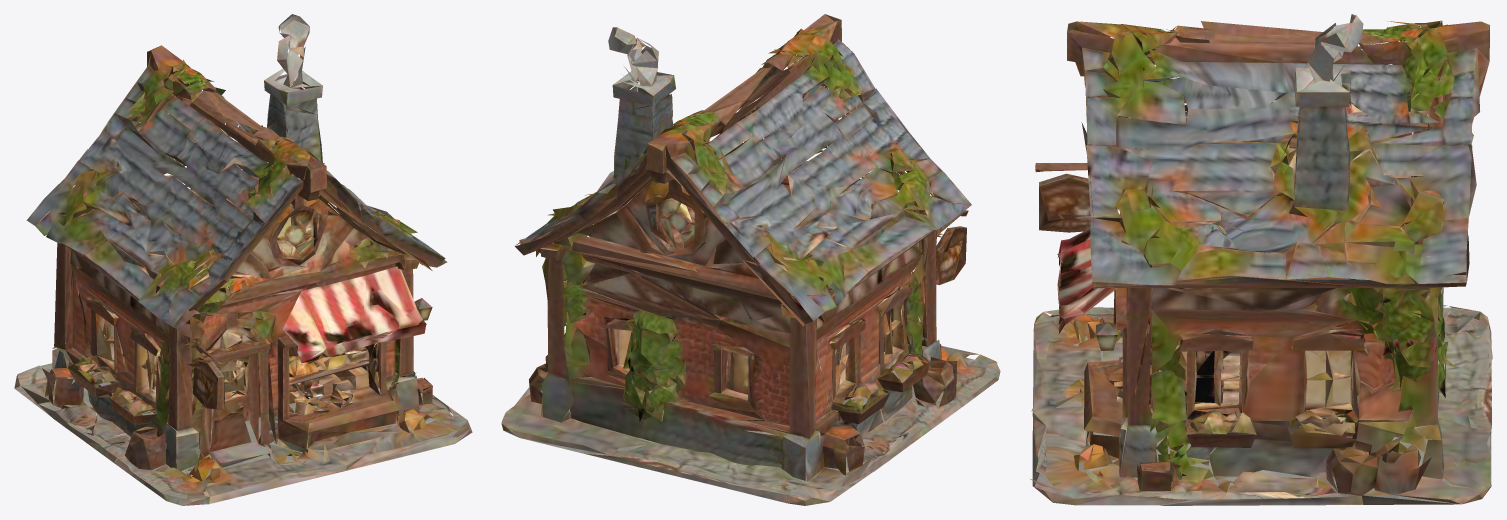
Rendered from bakery.glb.
3 renders of one model, left to right at view 1: azimuth 30°, elevation 25°; view 2: azimuth 150°, elevation 25°; view 3: azimuth 270°, elevation 25°, orthographic. The views are drawn at different scales.
Parts seen in each view (by area): view 1: Mesh_0; view 2: Mesh_0; view 3: Mesh_0.
Part boxes in pixels (x1,y1,x2,y2): Mesh_0: (14, 14, 472, 505); Mesh_0: (501, 14, 1000, 505); Mesh_0: (1030, 14, 1492, 505).
Size of the model in its own units: 1.77 by 1.91 by 1.78.
Materials: 1 (1 with a texture image).
